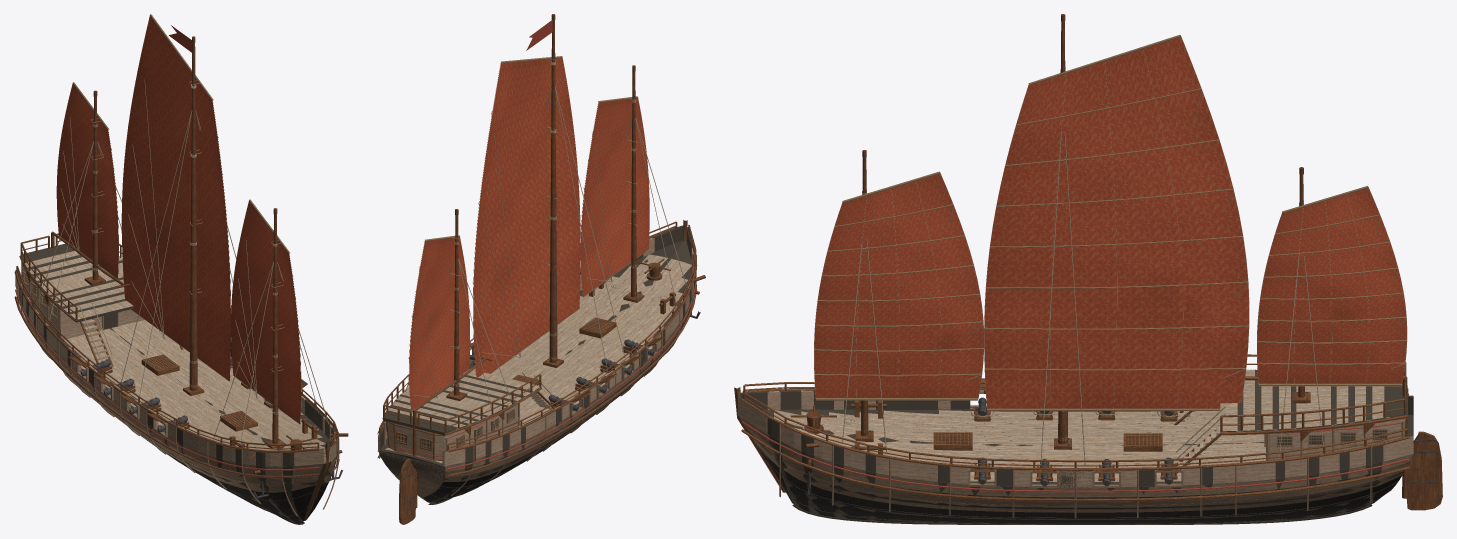
Rendered from fuchuan-lod2.glb.
The picture shows the model from 3 angles, left to right: view 1: azimuth 30°, elevation 25°; view 2: azimuth 150°, elevation 25°; view 3: azimuth 270°, elevation 25°; orthographic projection. The views are drawn at different scales.
Visible parts, largest first — view 1: sail_1, deck, hull, sail_0, sail_2, shadow_hull, deck_fittings, bulwark_rails, mast_timber_1, shadow_deck, sterncastle, mast_timber_0 (+6 smaller); view 2: sail_1, deck, sail_0, hull, sail_2, shadow_hull, deck_fittings, bulwark_rails, mast_timber_1, shadow_deck, mast_timber_0, stern_transom (+7 smaller); view 3: sail_1, hull, sail_0, sail_2, deck, shadow_hull, deck_fittings, bulwark_rails, shadow_deck, rudder_blade, sterncastle, rigging_1.
Part boxes in pixels (x1,y1,x2,y2): sail_1: [121, 14, 231, 381]; deck: [19, 251, 325, 450]; hull: [14, 270, 339, 524]; sail_0: [231, 199, 301, 424]; sail_2: [56, 82, 118, 278]; shadow_hull: [15, 270, 337, 522]; deck_fittings: [21, 262, 348, 498]; bulwark_rails: [16, 233, 338, 453]; mast_timber_1: [189, 43, 197, 390]; shadow_deck: [21, 243, 133, 322]; sterncastle: [23, 266, 144, 339]; mast_timber_0: [272, 214, 278, 443]; sail_1: [472, 56, 580, 378]; deck: [382, 254, 691, 463]; sail_0: [580, 96, 649, 297]; hull: [377, 220, 697, 504]; sail_2: [408, 235, 469, 411]; shadow_hull: [378, 225, 695, 502]; deck_fittings: [383, 258, 705, 460]; bulwark_rails: [379, 221, 695, 450]; mast_timber_1: [549, 20, 557, 362]; shadow_deck: [383, 374, 540, 435]; mast_timber_0: [631, 71, 636, 297]; stern_transom: [388, 422, 444, 458]; sail_1: [984, 35, 1249, 411]; hull: [734, 387, 1413, 524]; sail_0: [814, 171, 984, 400]; sail_2: [1257, 186, 1407, 386]; deck: [774, 369, 1407, 481]; shadow_hull: [738, 390, 1413, 523]; deck_fittings: [790, 385, 1407, 494]; bulwark_rails: [743, 354, 1408, 467]; shadow_deck: [1220, 369, 1407, 432]; rudder_blade: [1406, 431, 1442, 510]; sterncastle: [1266, 418, 1404, 460]; rigging_1: [1040, 132, 1085, 465].
Size of the model in its own units: 10.4 by 26.66 by 33.57.
13 materials, 8 textured.
